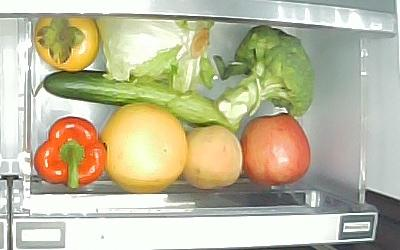apple: (241, 113, 313, 186)
broccoli: (216, 26, 313, 122)
cucumber: (41, 70, 238, 132)
grapefruit: (103, 103, 187, 194)
lettuce: (95, 16, 216, 95)
paprika: (34, 115, 108, 188)
peach: (183, 127, 243, 191)
persimmon: (35, 17, 100, 73)
